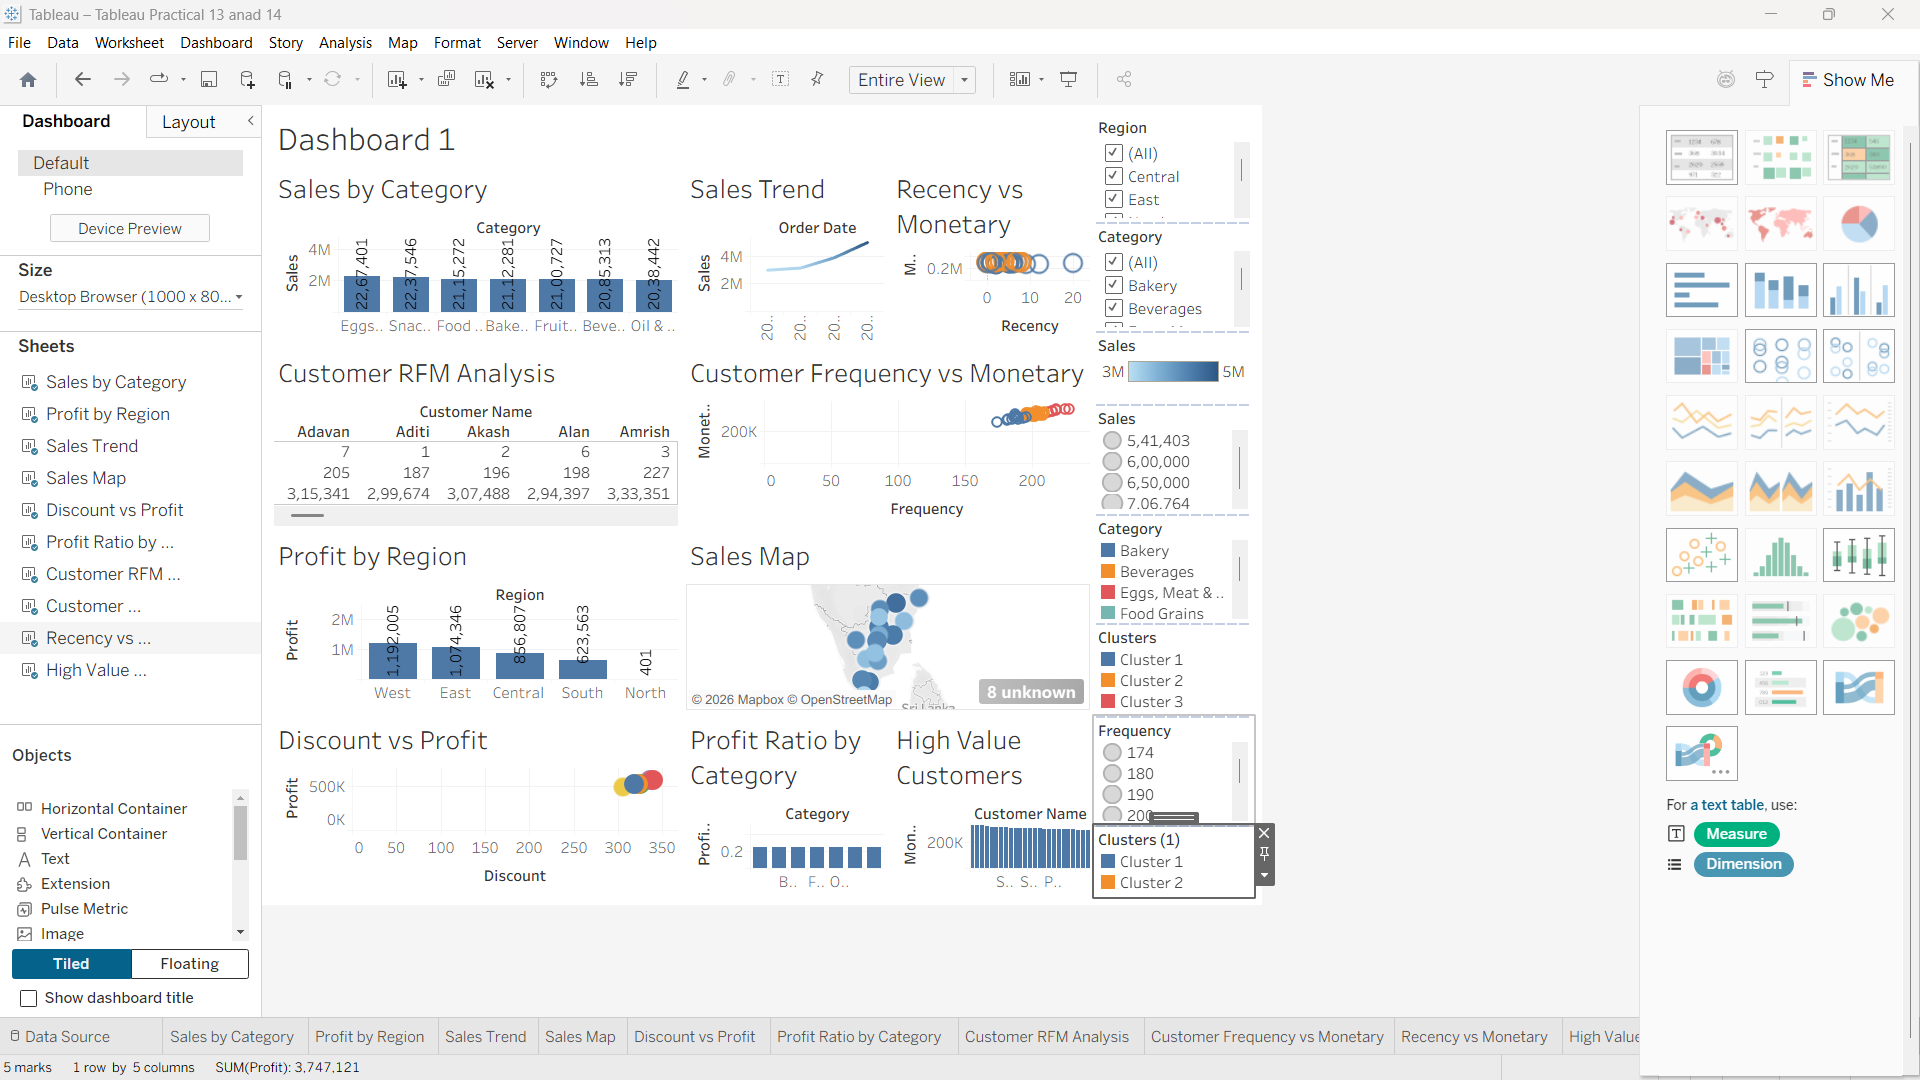

This screenshot's page, from the dashboard's own definition file:
{"tool":"tableau","page":{"name":"Dashboard 1","canvas":[1000,800],"ordinal":0},"visuals":[{"type":"title","box":[8,8,824,50]},{"type":"filter","title":"Sales by Category","param":"[federated.1tc3ei50lmz38w19irf4m1e967hl].[none:Region:nk]","box":[832,8,160,109.2]},{"type":"worksheet","title":"Sales by Category","mark":"Bar","rows":["Sales"],"cols":["Category"],"box":[8,58,412,183.5]},{"type":"worksheet","title":"Sales Trend","mark":"Automatic","rows":["Sales"],"cols":["Order Date"],"box":[420,58,206,183.5]},{"type":"worksheet","title":"Recency vs Monetary","mark":"Automatic","rows":["Calculation_1261740741402629"],"cols":["Calculation_1261740741095427"],"box":[626,58,206,183.5]},{"type":"filter","title":"Profit by Region","param":"[federated.1tc3ei50lmz38w19irf4m1e967hl].[none:Category:nk]","box":[832,117.2,160,109.2]},{"type":"legend","title":"Sales Trend","param":"[federated.1tc3ei50lmz38w19irf4m1e967hl].[sum:Sales:qk]","box":[832,226.4,160,73]},{"type":"worksheet","title":"Customer RFM Analysis","mark":"Automatic","cols":["Customer Name"],"box":[8,241.5,412,183.5]},{"type":"worksheet","title":"Customer Frequency vs Monetary","mark":"Automatic","rows":["Calculation_1261740741402629"],"cols":["Calculation_1261740741308420"],"box":[420,241.5,412,183.5]},{"type":"legend","title":"Sales Map","param":"[federated.1tc3ei50lmz38w19irf4m1e967hl].[sum:Sales:qk]","box":[832,299.4,160,109.2]},{"type":"legend","title":"Discount vs Profit","param":"[federated.1tc3ei50lmz38w19irf4m1e967hl].[none:Category:nk]","box":[832,408.6,160,109.2]},{"type":"worksheet","title":"Profit by Region","mark":"Bar","rows":["Profit"],"cols":["Region"],"box":[8,425,412,183.5]},{"type":"worksheet","title":"Sales Map","mark":"Automatic","box":[420,425,412,183.5]},{"type":"legend","title":"Customer Frequency vs Monetary","param":"[federated.1tc3ei50lmz38w19irf4m1e967hl].[none:AdhocCluster:1:ok]","box":[832,517.8,160,93]},{"type":"worksheet","title":"Discount vs Profit","mark":"Circle","rows":["Profit"],"cols":["Discount"],"box":[8,608.5,412,183.5]},{"type":"worksheet","title":"Profit Ratio by Category","mark":"Bar","rows":["Calculation_1261740737220608"],"cols":["Category"],"box":[420,608.5,206,183.5]},{"type":"worksheet","title":"High Value Customers","mark":"Automatic","rows":["Calculation_1261740741402629"],"cols":["Customer Name"],"box":[626,608.5,206,183.5]},{"type":"legend","title":"Recency vs Monetary","param":"[federated.1tc3ei50lmz38w19irf4m1e967hl].[sum:Calculation_1261740741308420:qk]","box":[832,610.8,160,109.2]},{"type":"legend","title":"Recency vs Monetary","param":"[federated.1tc3ei50lmz38w19irf4m1e967hl].[none:AdhocCluster:2:ok]","box":[832,720,160,72]}]}

Visuals, with their boxes on the page's 1000x800 design canvas (x1, y1, x2, y2). These are canvas units, not pixel positions in the 1920x1080 screenshot, which may show the page scaled, cropped or inside an application window:
title: box(8, 8, 832, 58)
"Sales by Category" filter: box(832, 8, 992, 117)
"Sales by Category" worksheet (Bar marks): box(8, 58, 420, 242)
"Sales Trend" worksheet: box(420, 58, 626, 242)
"Recency vs Monetary" worksheet: box(626, 58, 832, 242)
"Profit by Region" filter: box(832, 117, 992, 226)
"Sales Trend" legend: box(832, 226, 992, 299)
"Customer RFM Analysis" worksheet: box(8, 242, 420, 425)
"Customer Frequency vs Monetary" worksheet: box(420, 242, 832, 425)
"Sales Map" legend: box(832, 299, 992, 409)
"Discount vs Profit" legend: box(832, 409, 992, 518)
"Profit by Region" worksheet (Bar marks): box(8, 425, 420, 608)
"Sales Map" worksheet: box(420, 425, 832, 608)
"Customer Frequency vs Monetary" legend: box(832, 518, 992, 611)
"Discount vs Profit" worksheet (Circle marks): box(8, 608, 420, 792)
"Profit Ratio by Category" worksheet (Bar marks): box(420, 608, 626, 792)
"High Value Customers" worksheet: box(626, 608, 832, 792)
"Recency vs Monetary" legend: box(832, 611, 992, 720)
"Recency vs Monetary" legend: box(832, 720, 992, 792)
